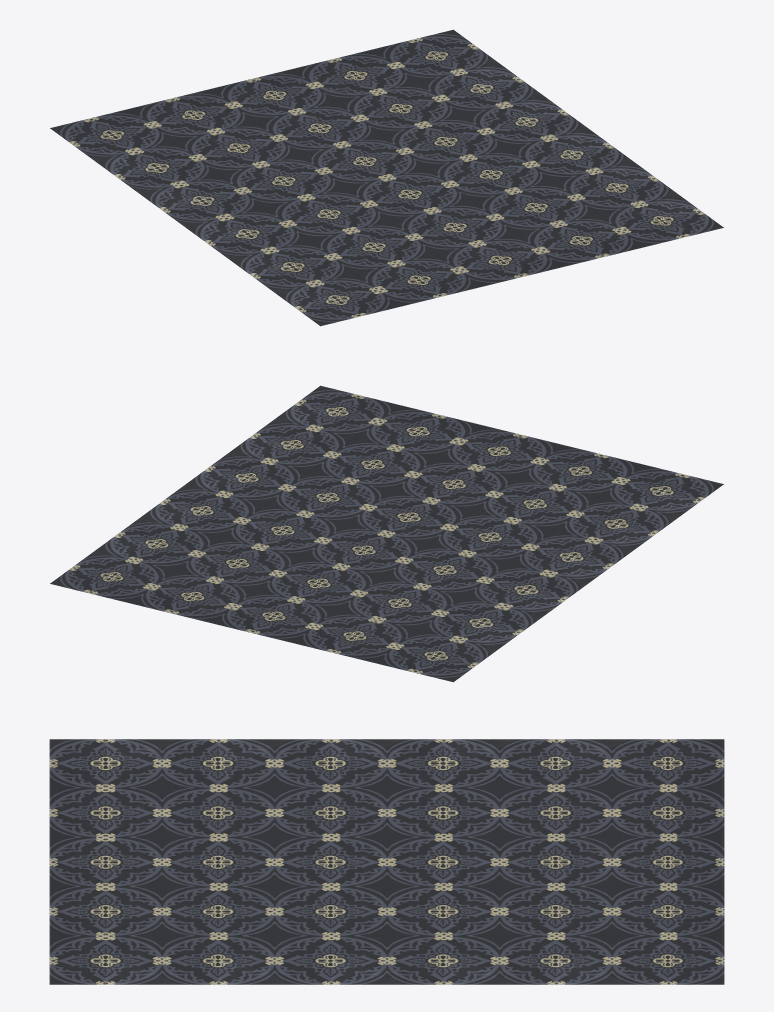
Rendered from my_wildhunt_01_carpet_01.glb.
3 views of the same model, one above another, from view 1: azimuth 30°, elevation 25°; view 2: azimuth 150°, elevation 25°; view 3: azimuth 270°, elevation 25° (orthographic). The views are drawn at different scales.
Visible parts, largest first — view 1: my_wildhunt_01_carpet_01; view 2: my_wildhunt_01_carpet_01; view 3: my_wildhunt_01_carpet_01.
Boxes of the visible parts, box(x1,y1,x2,y2) form: my_wildhunt_01_carpet_01: box(50, 29, 723, 326); my_wildhunt_01_carpet_01: box(50, 385, 723, 682); my_wildhunt_01_carpet_01: box(49, 739, 724, 984).
Size of the model in its own units: 0.0362 by 0 by 0.042.
Materials: 1 (1 with a texture image).
